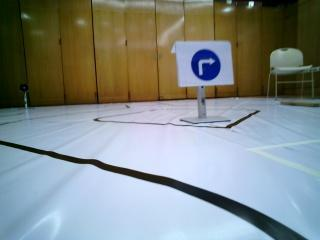right: (178, 43, 235, 83)
